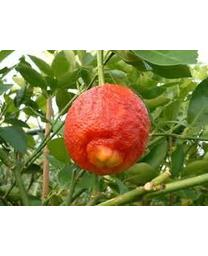lemon: (65, 85, 149, 174)
